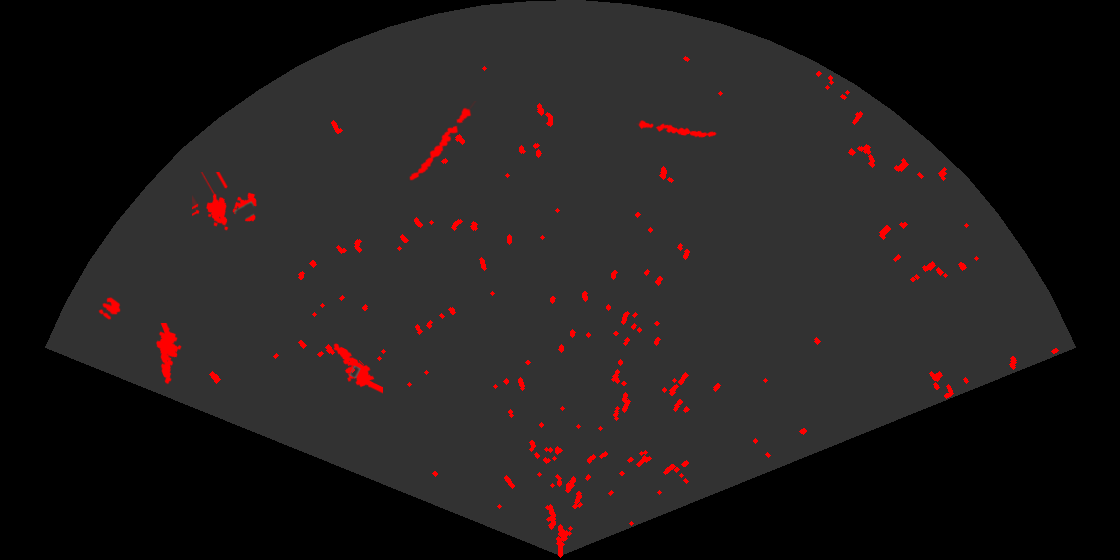ball: (97, 295, 122, 321)
cage: (192, 172, 259, 232)
chain: (408, 101, 478, 182), (635, 119, 718, 139)
frogman: (332, 342, 383, 395), (154, 323, 183, 386)
